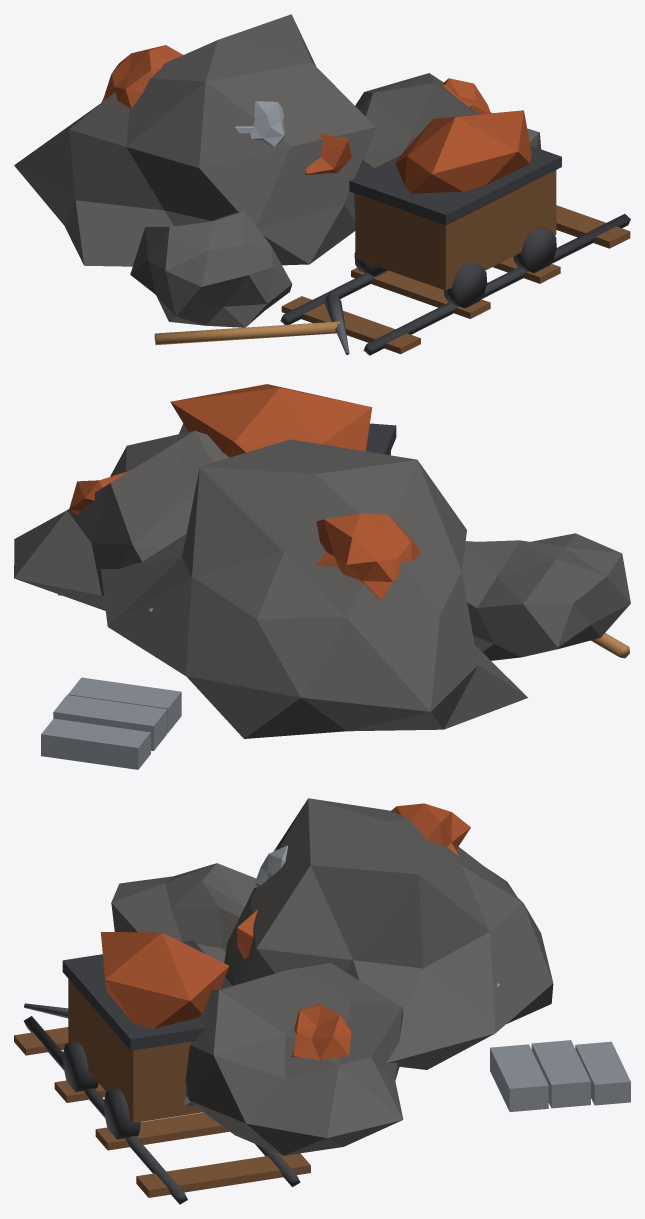
Rendered from resource_iron.fbx.
The picture shows the model from 3 angles, top to bottom: view 1: azimuth 30°, elevation 25°; view 2: azimuth 150°, elevation 25°; view 3: azimuth 270°, elevation 25°; orthographic projection. The views are drawn at different scales.
Parts seen in each view (by area): view 1: resource_iron_rock#5c5a58_00, resource_iron_wood#7a5232.001_04, resource_iron_rustore_01, resource_iron_cartiron_03, resource_iron_wood#b08050.004_05, resource_iron_iron_02, resource_iron_pickiron.003_06; view 2: resource_iron_rock#5c5a58_00, resource_iron_rustore_01, resource_iron_iron_02, resource_iron_cartiron_03; view 3: resource_iron_rock#5c5a58_00, resource_iron_wood#7a5232.001_04, resource_iron_rustore_01, resource_iron_iron_02, resource_iron_cartiron_03.
Part boxes in pixels (x1=…): resource_iron_rock#5c5a58_00: x1=14, y1=14, x2=540, y2=327; resource_iron_wood#7a5232.001_04: x1=281, y1=170, x2=630, y2=354; resource_iron_rustore_01: x1=101, y1=45, x2=531, y2=193; resource_iron_cartiron_03: x1=280, y1=145, x2=630, y2=355; resource_iron_wood#b08050.004_05: x1=154, y1=321, x2=339, y2=345; resource_iron_iron_02: x1=234, y1=101, x2=285, y2=146; resource_iron_pickiron.003_06: x1=323, y1=293, x2=349, y2=354; resource_iron_rock#5c5a58_00: x1=14, y1=430, x2=630, y2=738; resource_iron_rustore_01: x1=69, y1=384, x2=420, y2=600; resource_iron_iron_02: x1=41, y1=608, x2=181, y2=769; resource_iron_cartiron_03: x1=179, y1=423, x2=396, y2=454; resource_iron_rock#5c5a58_00: x1=111, y1=798, x2=553, y2=1155; resource_iron_wood#7a5232.001_04: x1=14, y1=979, x2=310, y2=1197; resource_iron_rustore_01: x1=100, y1=803, x2=470, y2=1060; resource_iron_iron_02: x1=183, y1=845, x2=630, y2=1111; resource_iron_cartiron_03: x1=24, y1=940, x2=300, y2=1204.
Bounding box in the file's own units: 108 × 41.23 × 108.
